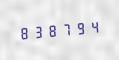eight: (17, 23, 30, 42), (46, 21, 59, 40)
four: (88, 17, 101, 36)
nine: (74, 18, 87, 37)
seven: (60, 19, 73, 38)
three: (31, 22, 44, 41)
